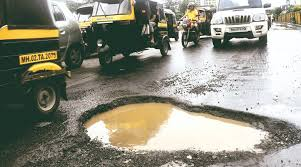potholes: (73, 82, 301, 164)
